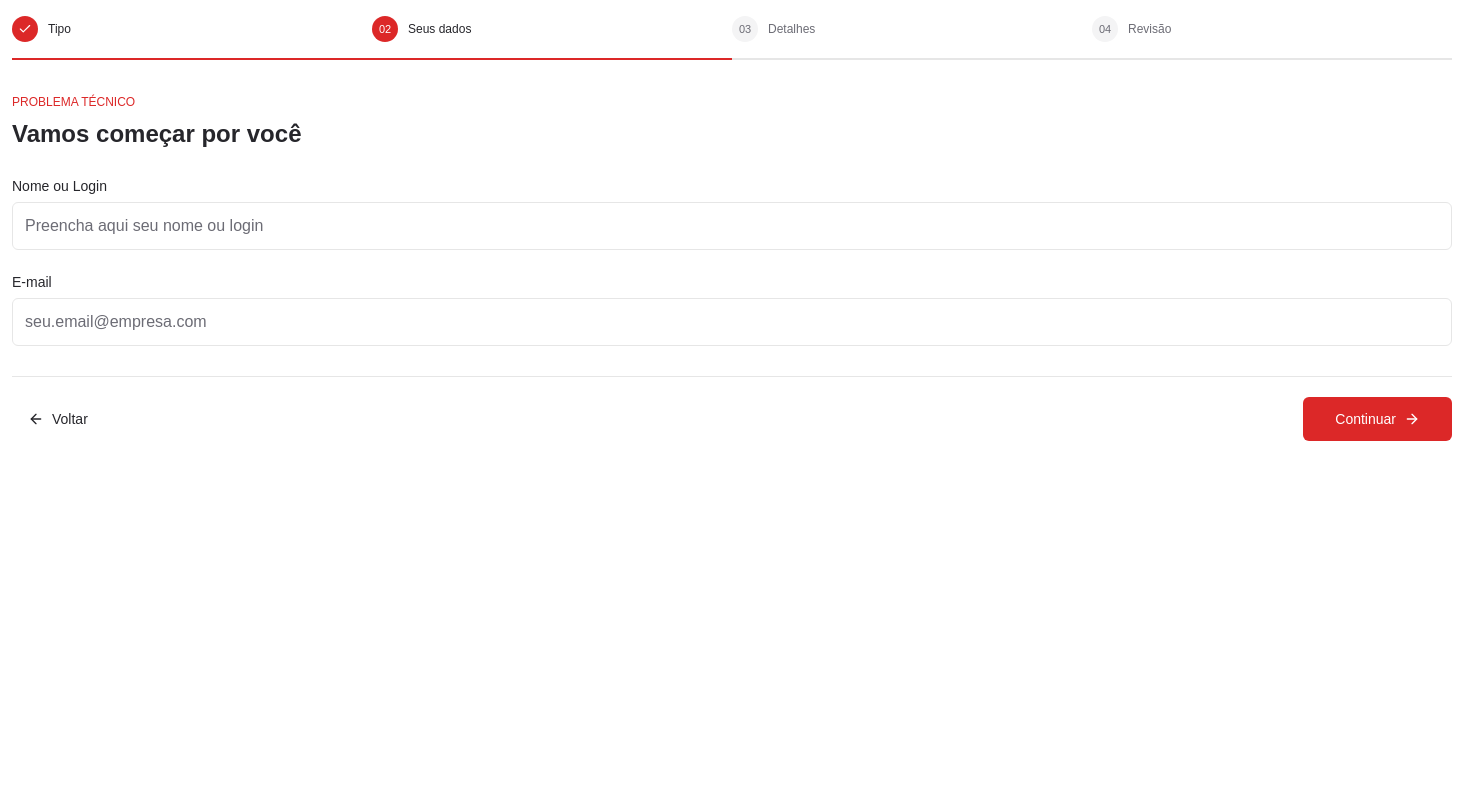
guided flow navigation › preserves requester values when navigating back from details
In the field labelled "Nome ou Login": (732, 226) [12,202,1452,250], type "Teste preservado"
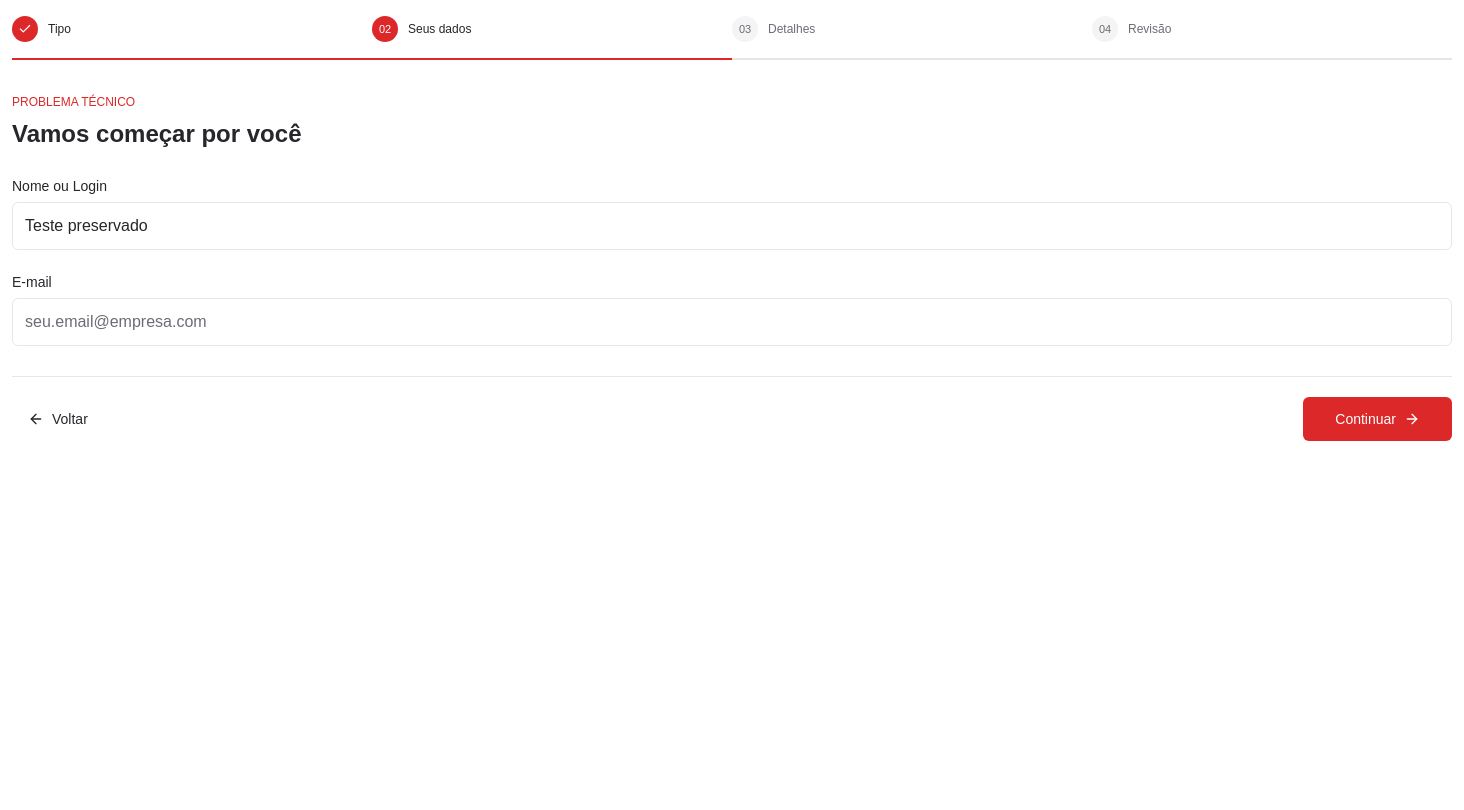
In the field labelled "E-mail": (732, 322) [12,298,1452,346], type "teste@example.com"
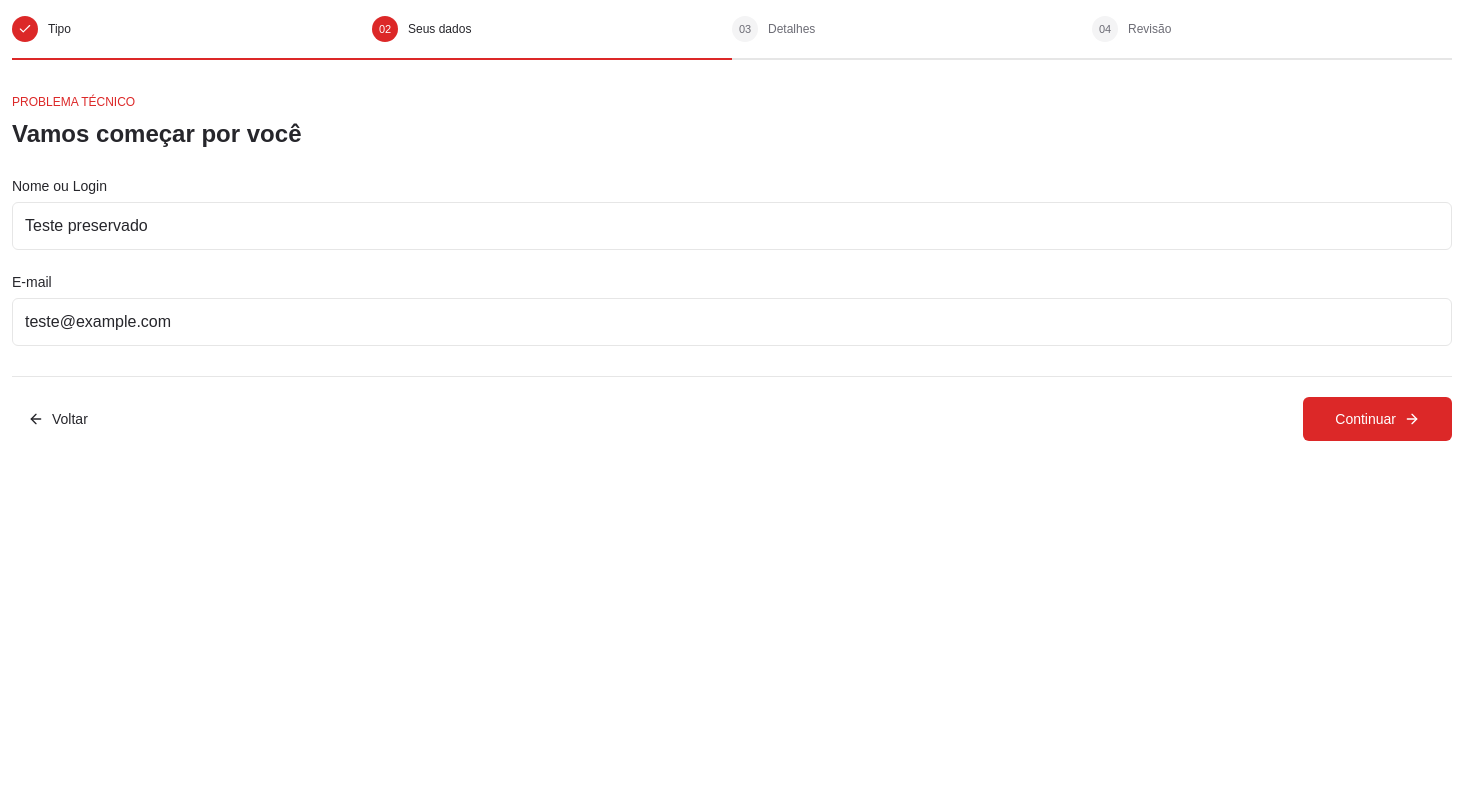
Click the button "Continuar": (1378, 419) [1303,397,1452,441]
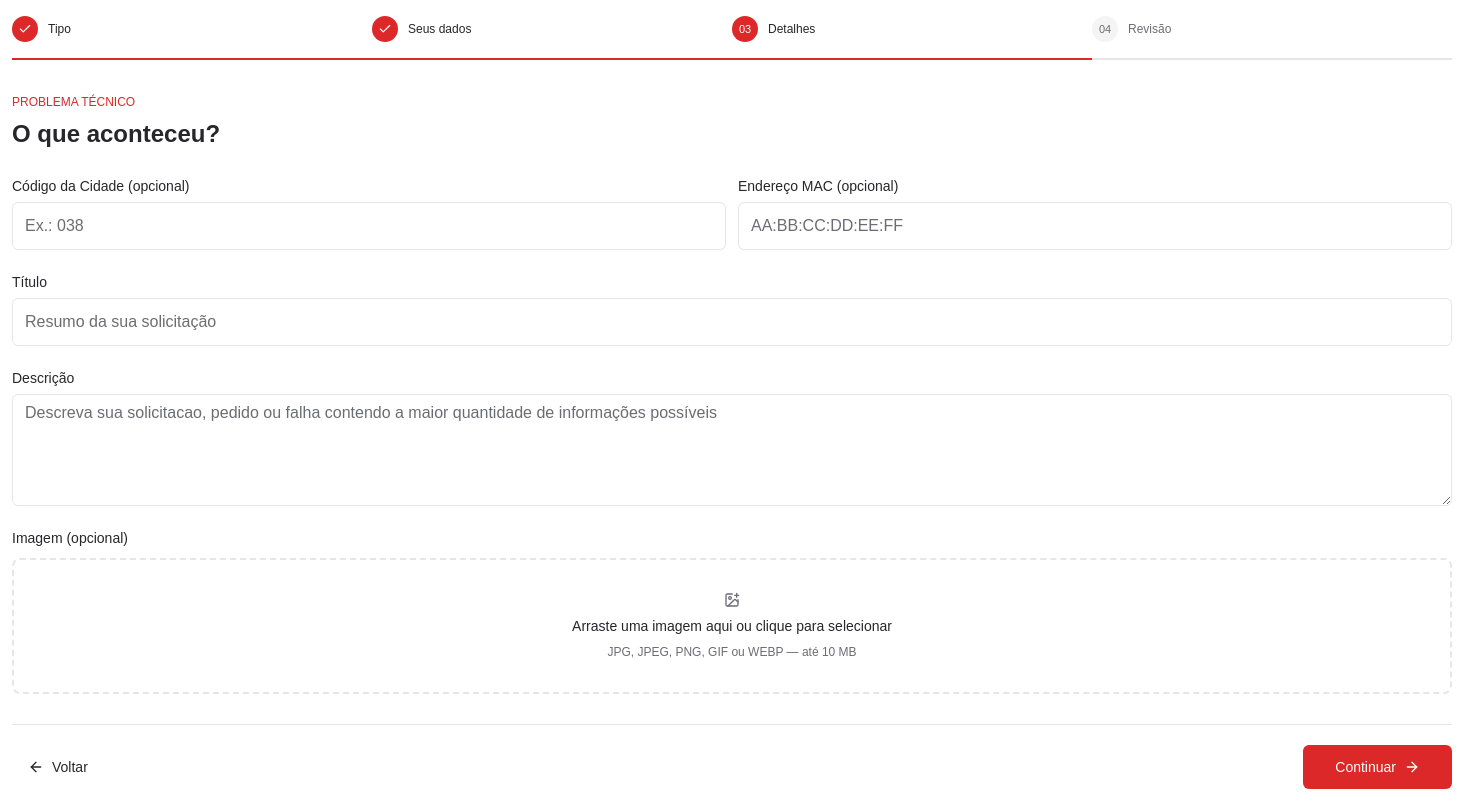
Check: the heading "O que aconteceu?" is shown, box [12,120,220,147]
Click the button "Voltar": (58, 767) [12,745,104,789]
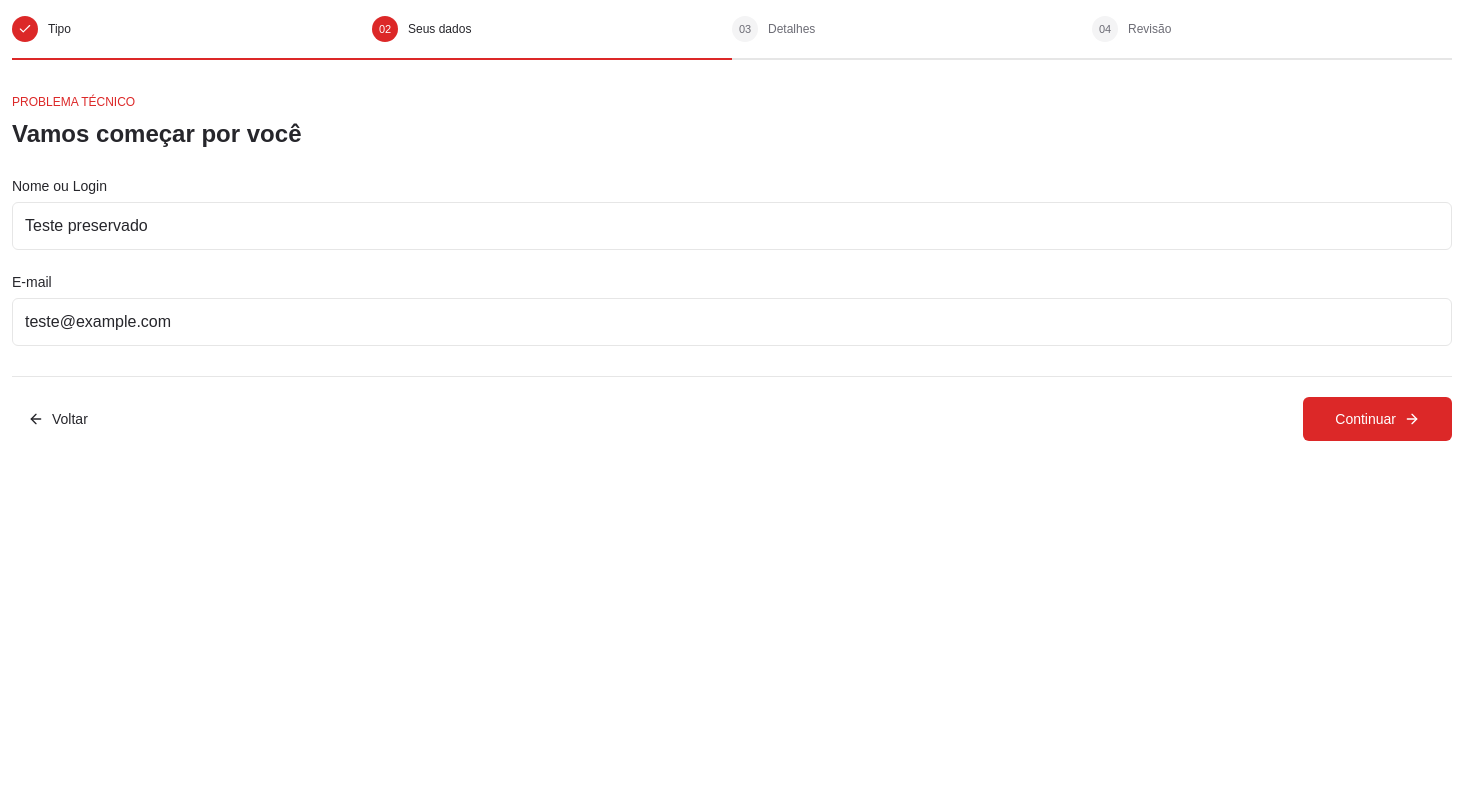
Check: the field labelled "Nome ou Login" holds "Teste preservado", box [12,202,1452,250]
Check: the field labelled "E-mail" holds "teste@example.com", box [12,298,1452,346]
